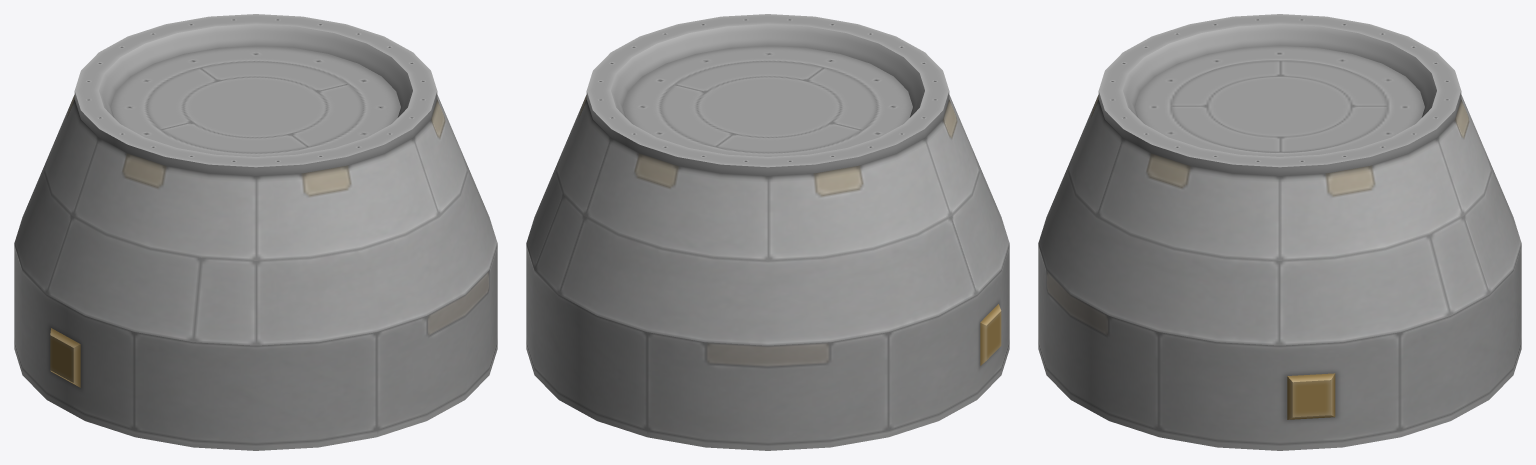
Rendered from Alniyat_NodeSupport_1.obj.
The picture shows the model from 3 angles, left to right: view 1: azimuth 30°, elevation 25°; view 2: azimuth 150°, elevation 25°; view 3: azimuth 270°, elevation 25°; orthographic projection.
Parts seen in each view (by area): view 1: Alniyat_NodeSupport_1; view 2: Alniyat_NodeSupport_1; view 3: Alniyat_NodeSupport_1.
Part boxes in pixels (x1,y1,x2,y2): Alniyat_NodeSupport_1: [14, 14, 497, 450]; Alniyat_NodeSupport_1: [526, 14, 1009, 450]; Alniyat_NodeSupport_1: [1038, 14, 1521, 450].
Bounding box in the file's own units: 1.27 × 0.7365 × 1.25.
